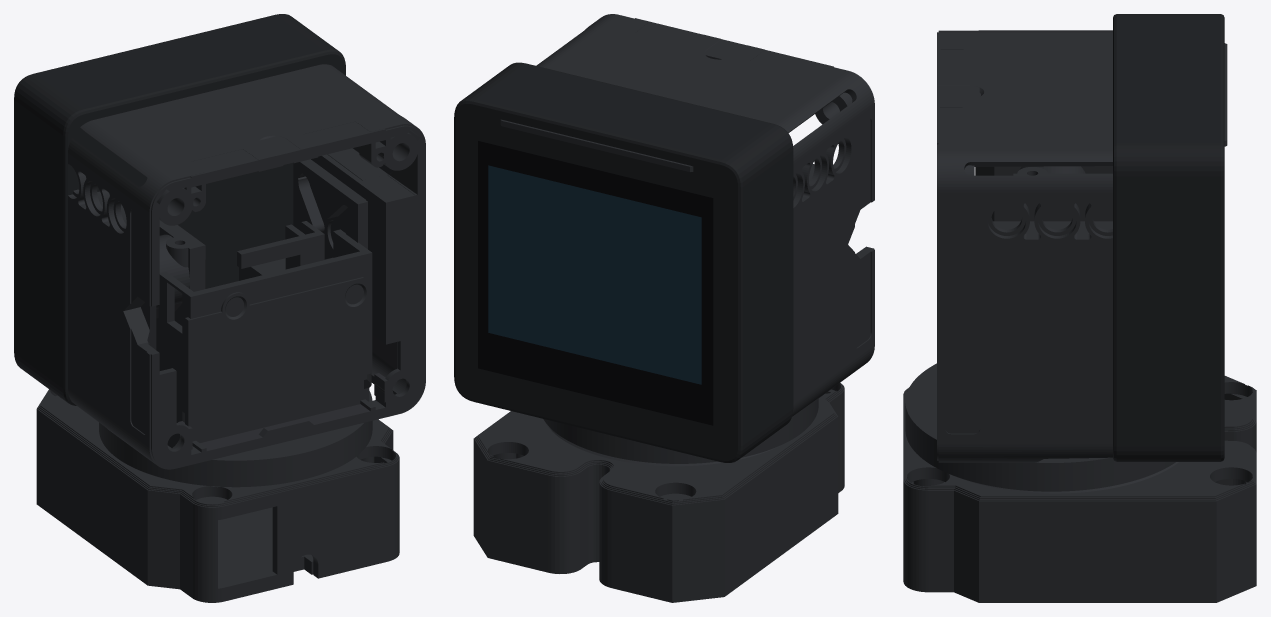
File: pebble-v3.glb
3 renders of one model, left to right at view 1: azimuth 30°, elevation 25°; view 2: azimuth 150°, elevation 25°; view 3: azimuth 270°, elevation 25°, orthographic. The views are drawn at different scales.
Parts seen in each view (by area): view 1: head, CoreS3, base, neck, neck_cover, horn_plate, bottom_cover; view 2: CoreS3, base, head, Screen, Screen_Bezel, neck; view 3: head, CoreS3, base, neck.
Part boxes in pixels (x1=…): head: x1=68, y1=64, x2=425, y2=469; CoreS3: x1=14, y1=14, x2=345, y2=405; base: x1=36, y1=389, x2=399, y2=602; neck: x1=99, y1=220, x2=372, y2=487; neck_cover: x1=185, y1=258, x2=369, y2=440; horn_plate: x1=293, y1=159, x2=367, y2=259; bottom_cover: x1=196, y1=496, x2=313, y2=584; CoreS3: x1=454, y1=62, x2=793, y2=462; base: x1=473, y1=383, x2=844, y2=602; head: x1=500, y1=14, x2=874, y2=416; Screen: x1=488, y1=165, x2=701, y2=384; Screen_Bezel: x1=478, y1=141, x2=713, y2=425; neck: x1=543, y1=398, x2=818, y2=463; head: x1=937, y1=30, x2=1227, y2=462; CoreS3: x1=1113, y1=14, x2=1224, y2=461; base: x1=903, y1=376, x2=1256, y2=602; neck: x1=905, y1=166, x2=1175, y2=491.
Bounding box in the file's own units: 55.2 × 80.1 × 55.96.
